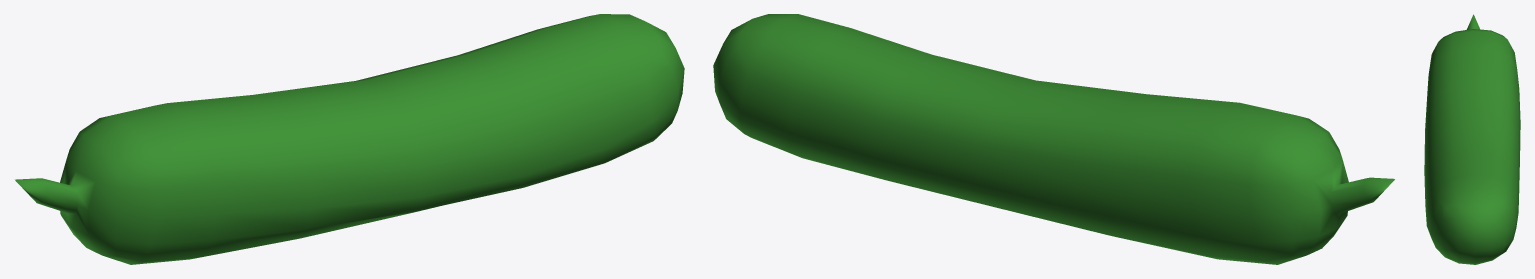
File: cocomber.fbx
The picture shows the model from 3 angles, left to right: view 1: azimuth 30°, elevation 25°; view 2: azimuth 150°, elevation 25°; view 3: azimuth 270°, elevation 25°; orthographic projection. The views are drawn at different scales.
Parts seen in each view (by area): view 1: cocomber; view 2: cocomber; view 3: cocomber.
Part boxes in pixels (x1,y1,x2,y2): cocomber: (15, 14, 684, 264); cocomber: (713, 14, 1394, 264); cocomber: (1424, 14, 1520, 264).
Bounding box in the file's own units: 949 × 192 × 194.
